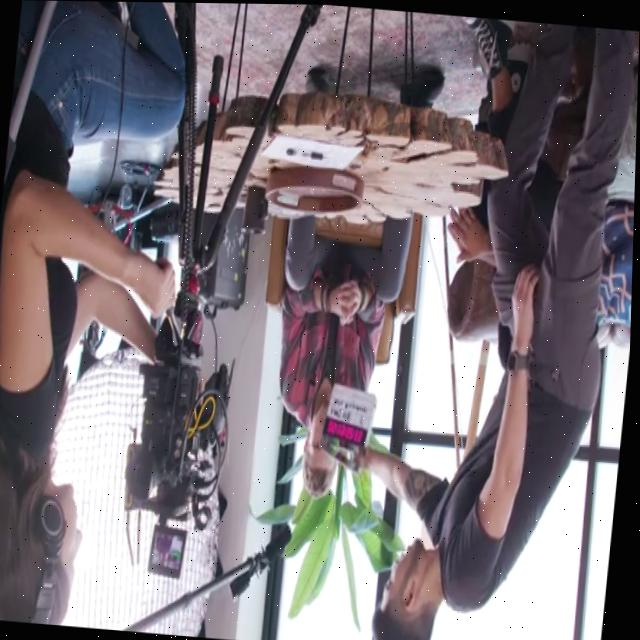Clapperboard: (315, 377, 381, 476)
